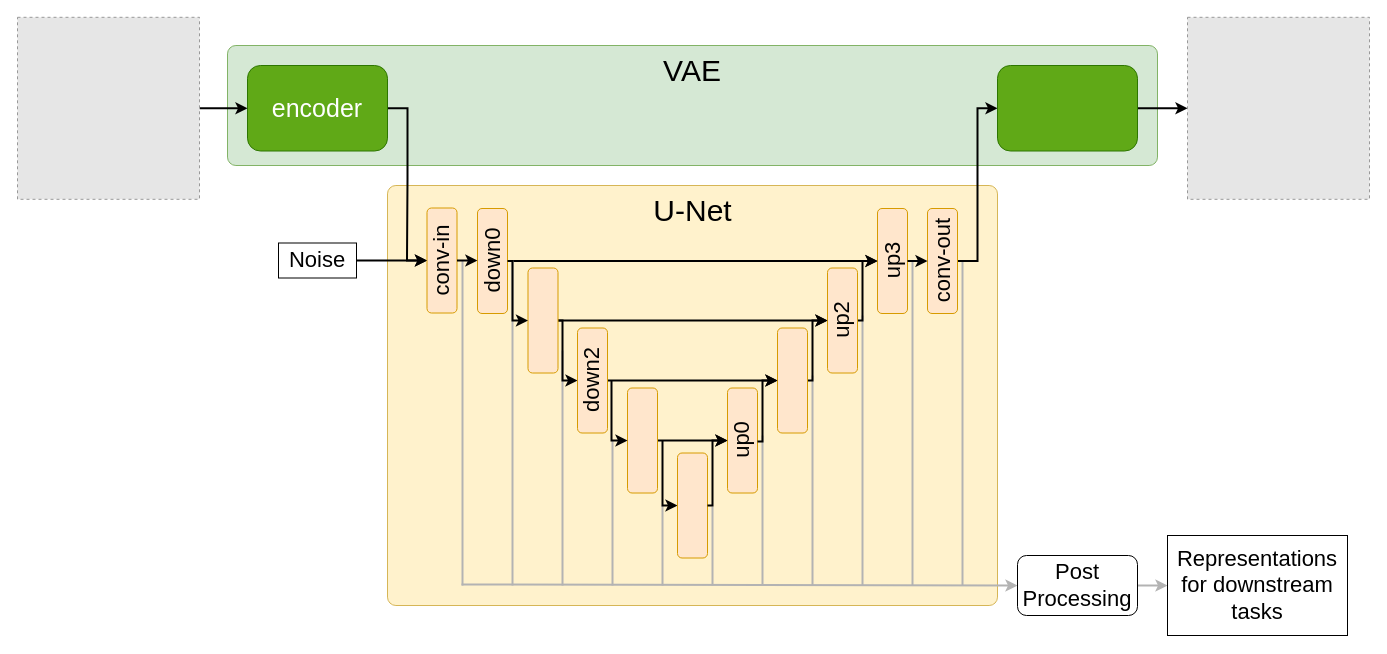
Some shapes in this 1387 by 654 pixel diagram are drawn without their labels. Grey dashed boxes stand in for pictures. The shapes that lost their labels are listed below. From the top down, each one's box as (x1, y1, x2, y2) in pixels, then its label:
(996, 64, 1138, 151): decoder
(527, 267, 558, 373): down1
(776, 327, 808, 433): up1
(626, 387, 658, 493): down3
(676, 452, 708, 558): mid
